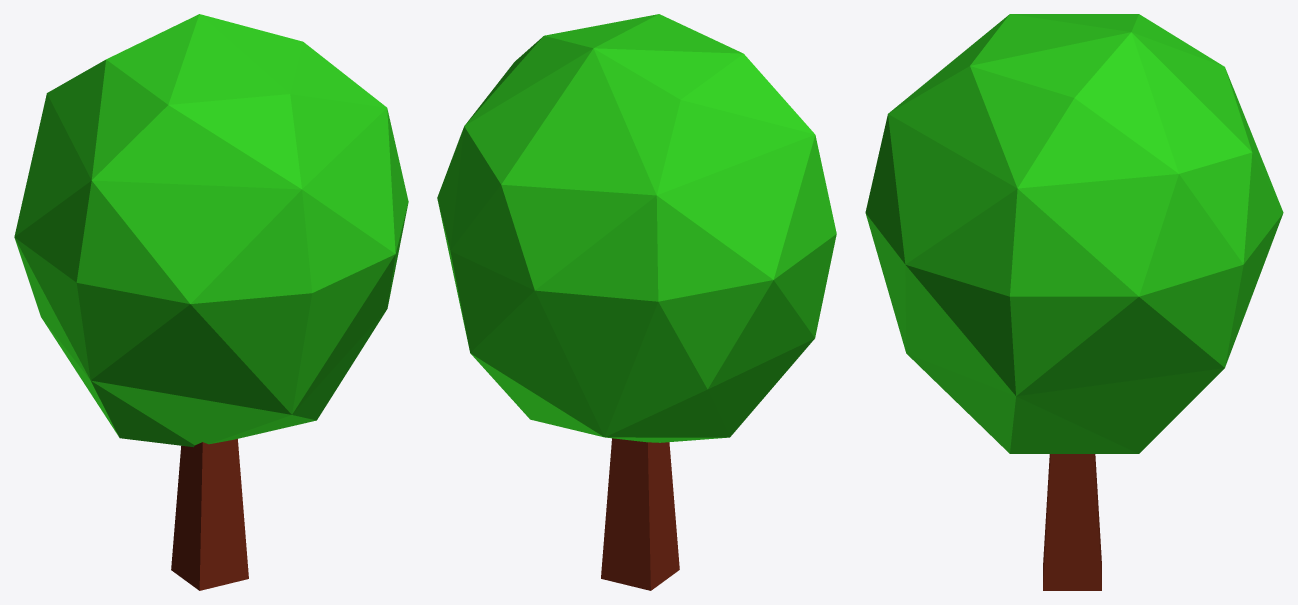
Rendered from tree.fbx.
3 renders of one model, left to right at view 1: azimuth 30°, elevation 25°; view 2: azimuth 150°, elevation 25°; view 3: azimuth 270°, elevation 25°, orthographic. The views are drawn at different scales.
Parts seen in each view (by area): view 1: Icosphere; view 2: Icosphere; view 3: Icosphere.
Part boxes in pixels (x1,y1,x2,y2): Icosphere: (14, 14, 408, 590); Icosphere: (437, 14, 836, 590); Icosphere: (865, 14, 1283, 590).
Bounding box in the file's own units: 349 × 538 × 367.
